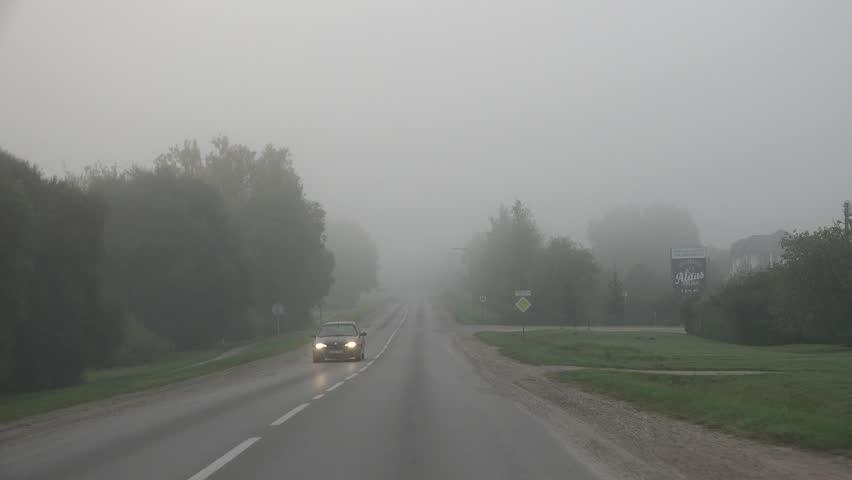bicycle: (271, 301, 286, 334)
car: (312, 320, 368, 363), (320, 319, 360, 334), (335, 319, 369, 333), (353, 323, 369, 349), (271, 301, 287, 322), (351, 320, 369, 337)
cell phone: (312, 320, 368, 363)
fire hydrant: (271, 301, 286, 331)
motorcycle: (271, 301, 287, 333)
parking meter: (271, 301, 286, 331)
person: (271, 301, 287, 332)
sports ball: (271, 301, 287, 322)
truck: (311, 322, 364, 362)
